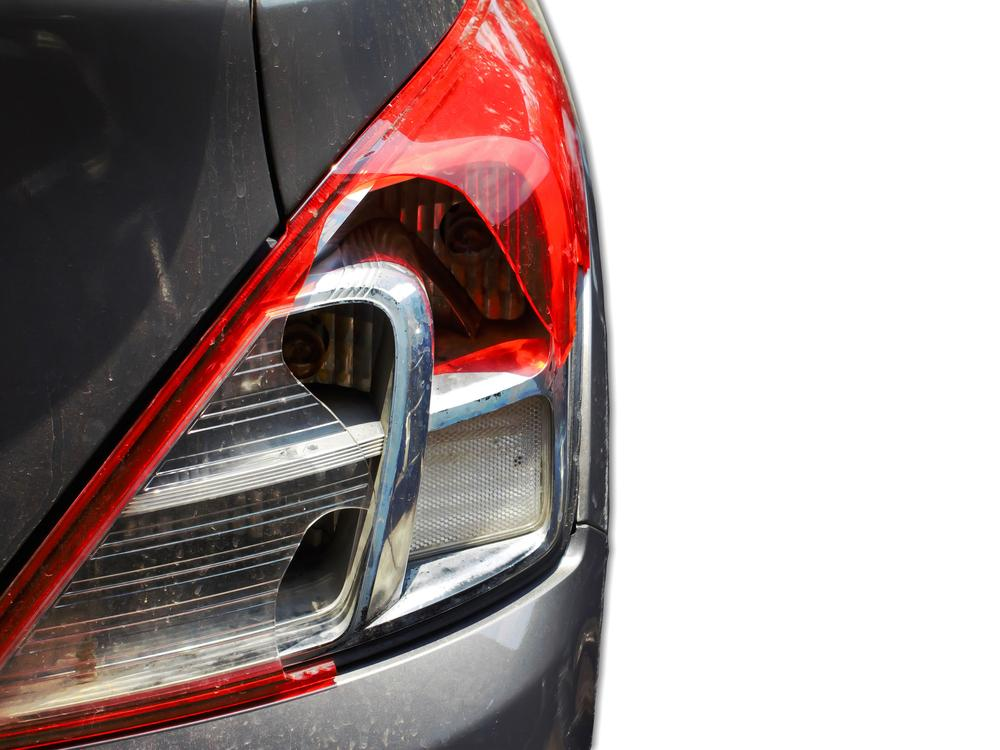lamp broken: (0, 0, 589, 750)
